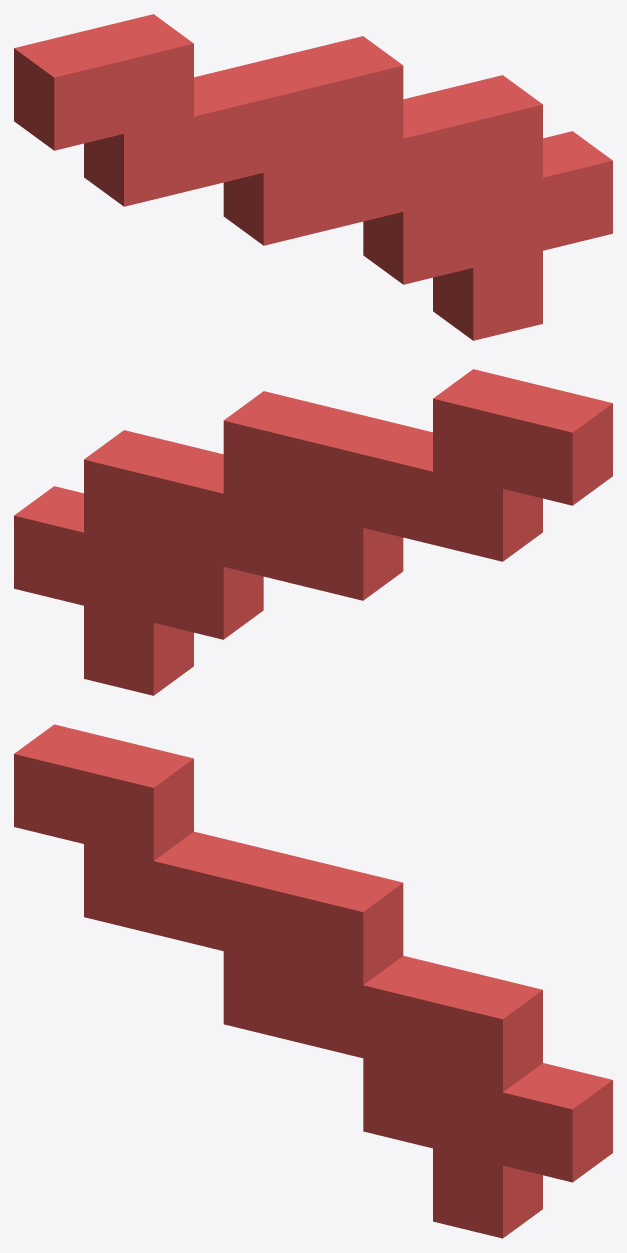
The model's file is Lightning-Large-Pink.vox.obj.
The picture shows the model from 3 angles, top to bottom: view 1: azimuth 30°, elevation 25°; view 2: azimuth 150°, elevation 25°; view 3: azimuth 330°, elevation 25°; orthographic projection.
Size of the model in its own units: 0.8 by 0.5 by 0.1.
Materials: 1 (1 with a texture image).
